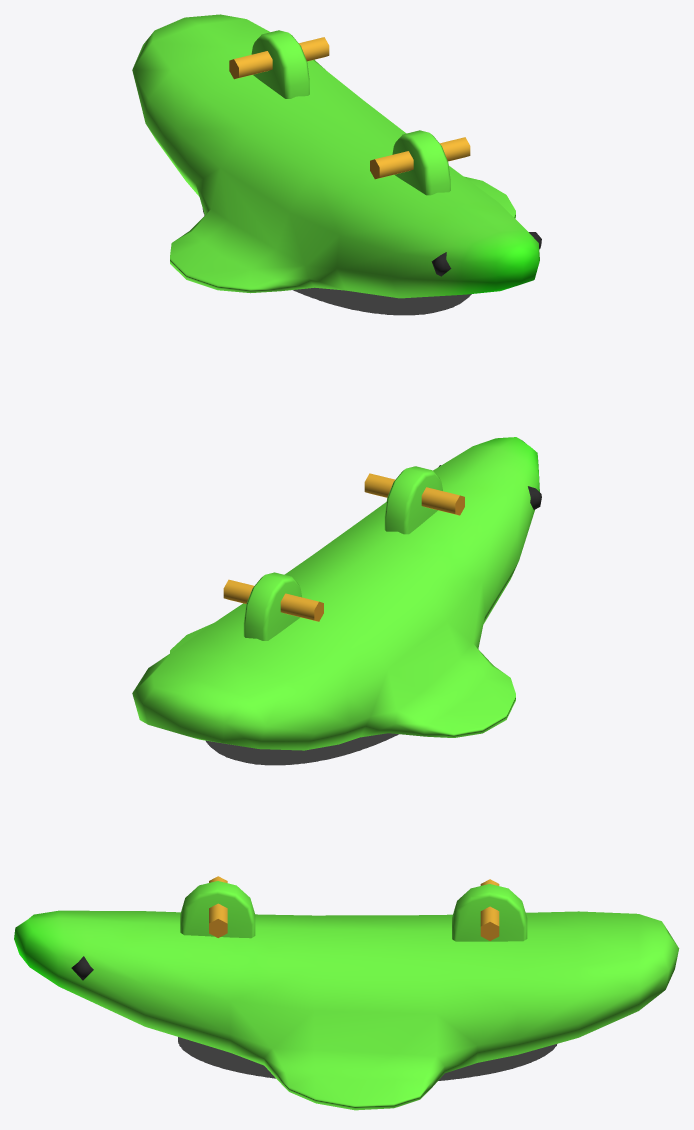
File: plastic_roll_02.DAE
3 views of the same model, one above another, from view 1: azimuth 30°, elevation 25°; view 2: azimuth 150°, elevation 25°; view 3: azimuth 270°, elevation 25° (orthographic). The views are drawn at different scales.
Parts seen in each view (by area): view 1: plastic_roll_02, sd_plastic_roll_02; view 2: plastic_roll_02, sd_plastic_roll_02; view 3: plastic_roll_02, sd_plastic_roll_02.
Part boxes in pixels (x1,y1,x2,y2): plastic_roll_02: [132, 14, 541, 298]; sd_plastic_roll_02: [202, 208, 471, 315]; plastic_roll_02: [132, 437, 541, 750]; sd_plastic_roll_02: [206, 733, 398, 765]; plastic_roll_02: [14, 876, 679, 1110]; sd_plastic_roll_02: [178, 1037, 556, 1080].
Bounding box in the file's own units: 1002 × 1826 × 474.
Materials: 2 (2 with a texture image).
